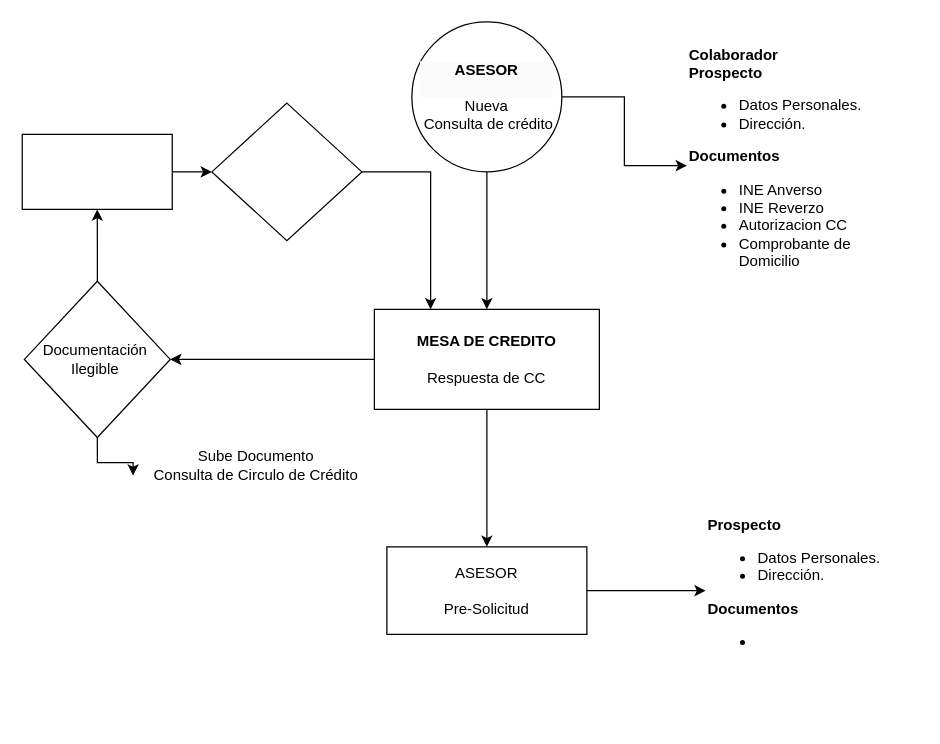
This 940x744 diagram has some shape labels left out. The shapes that lost their labels are listed below. From the top down, each one's centre as x and y in pixels, then its label:
the point at 96,171: Asesor Consulta de Crédito
the point at 286,171: Subir Documentacion
